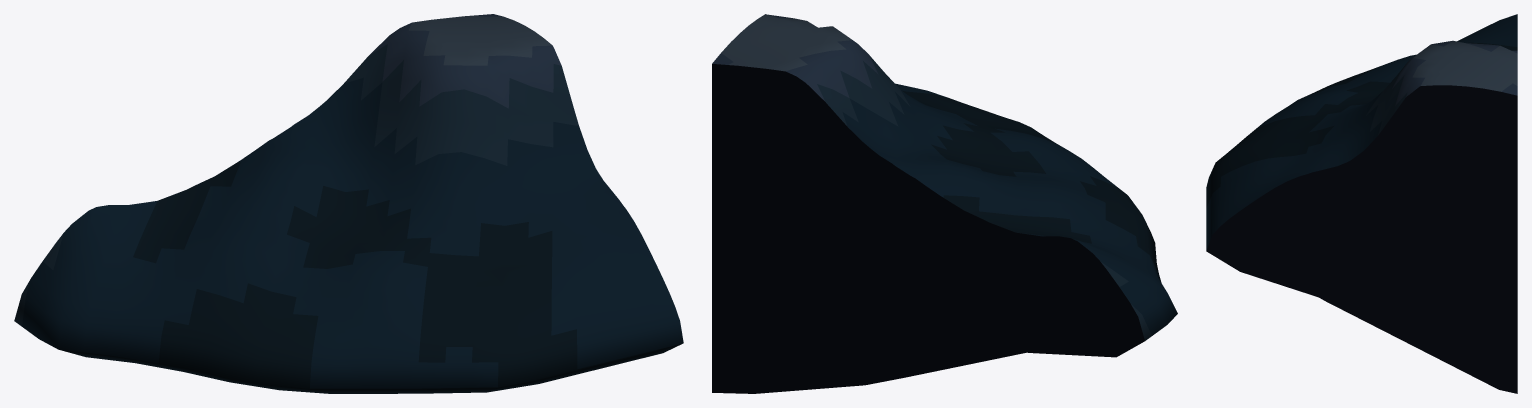
Rendered from newshn-193.glb.
3 renders of one model, left to right at view 1: azimuth 30°, elevation 25°; view 2: azimuth 150°, elevation 25°; view 3: azimuth 270°, elevation 25°, orthographic. The views are drawn at different scales.
Parts seen in each view (by area): view 1: newshn-193; view 2: newshn-193; view 3: newshn-193.
Boxes of the visible parts, x1,y1,x2,y2 form: newshn-193: (14, 14, 683, 393); newshn-193: (712, 14, 1177, 393); newshn-193: (1206, 14, 1517, 393).
Size of the model in its own units: 1.09 by 0.8264 by 0.75.
